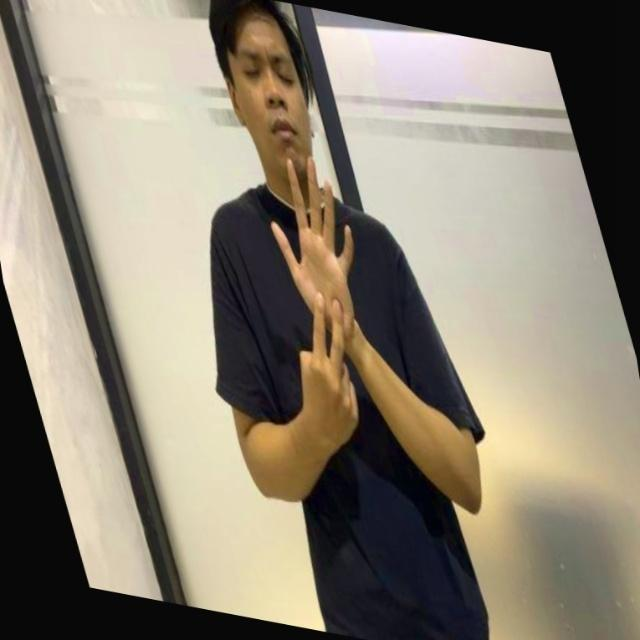N: (268, 142, 360, 372)
